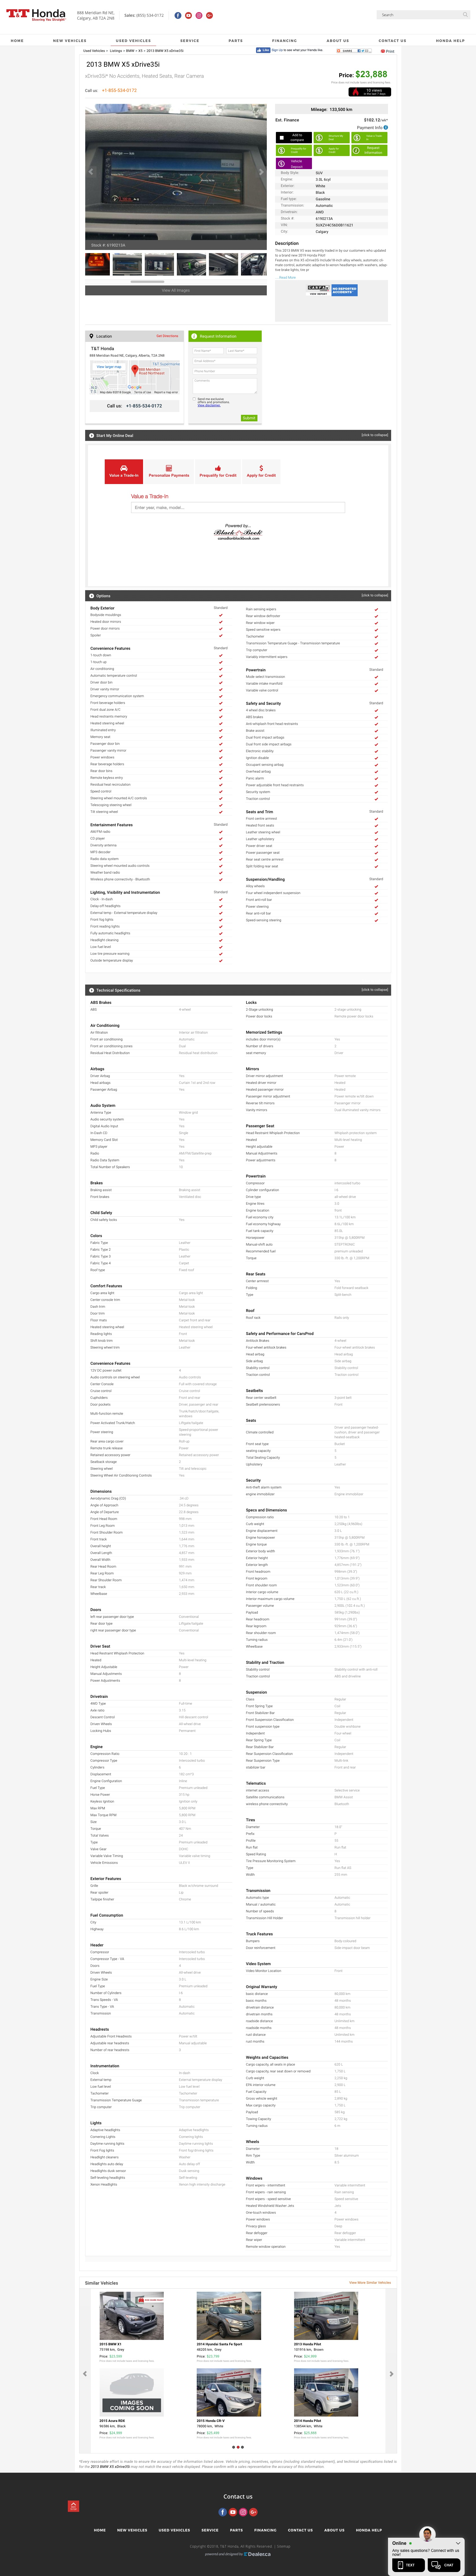car: (259, 169, 264, 176)
